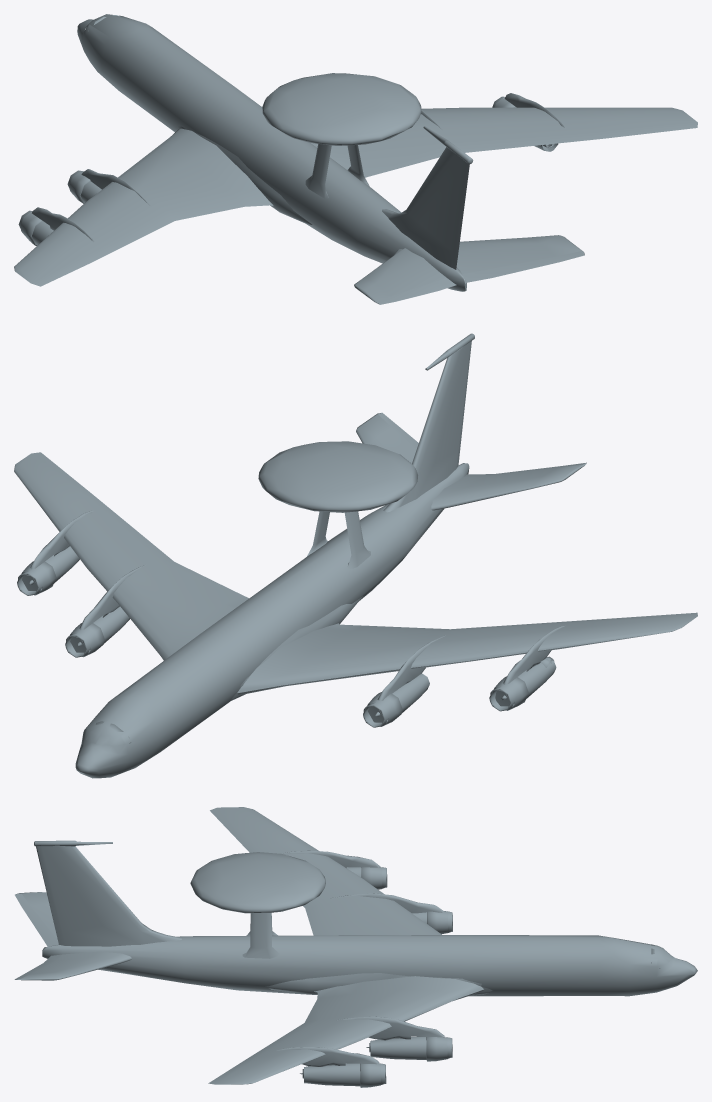
Rendered from model-aircraft-aw-1.glb.
The picture shows the model from 3 angles, top to bottom: view 1: azimuth 30°, elevation 25°; view 2: azimuth 150°, elevation 25°; view 3: azimuth 270°, elevation 25°; orthographic projection. The views are drawn at different scales.
Size of the model in its own units: 43.86 by 11.62 by 45.83.
